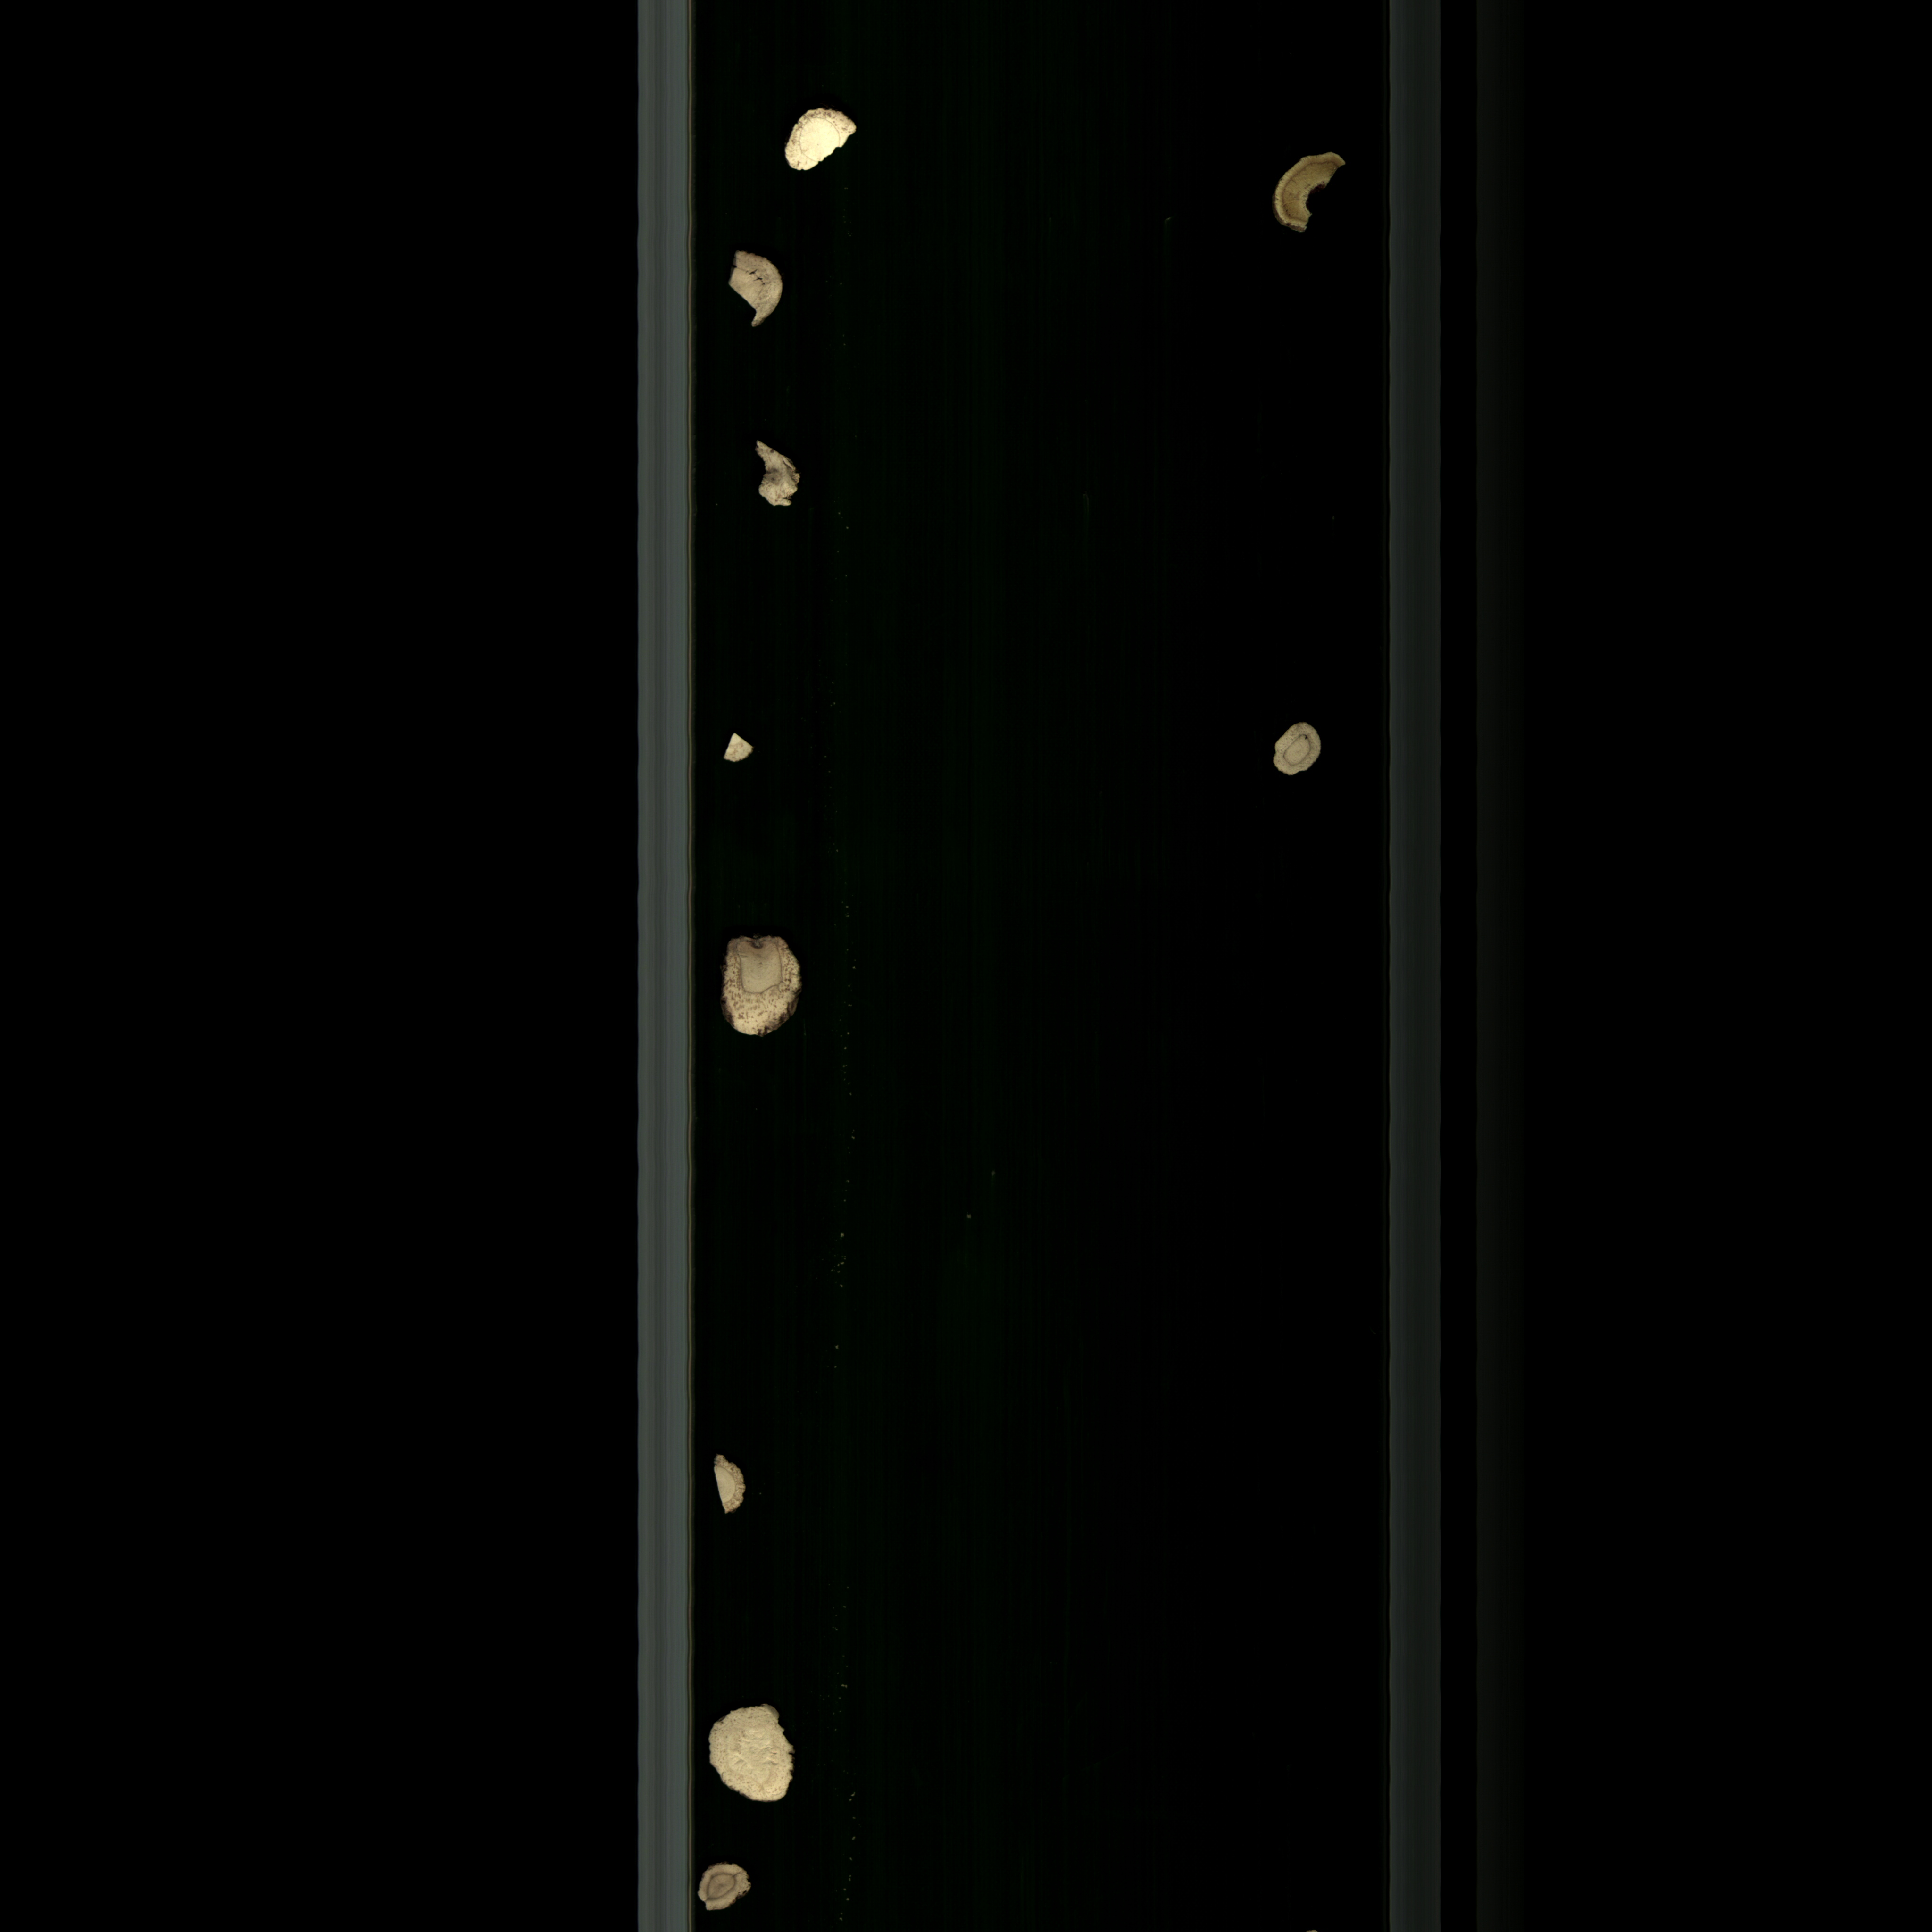debris: (780, 96, 858, 184)
dreg: (750, 437, 833, 520), (702, 1437, 761, 1529), (717, 729, 766, 770)
moldy: (697, 916, 821, 1053), (711, 232, 805, 343), (1256, 138, 1346, 242), (690, 1842, 764, 1927), (1249, 720, 1336, 784)
